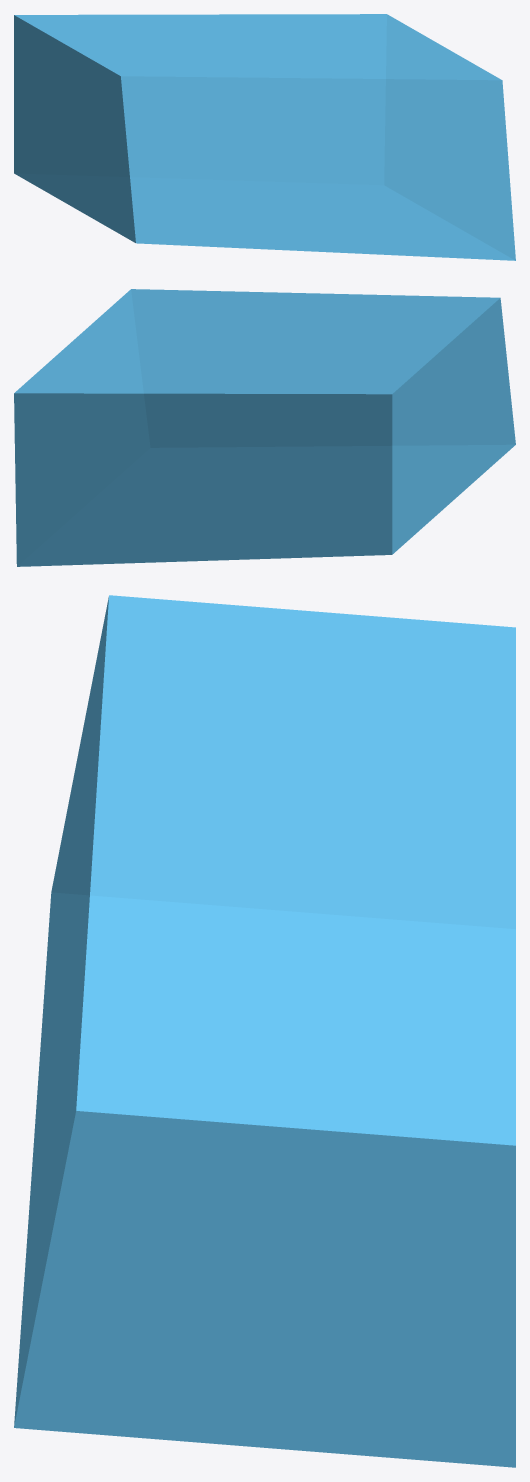
Rendered from Event_421278790_HErechit_38.fbx.
3 renders of one model, top to bottom at view 1: azimuth 30°, elevation 25°; view 2: azimuth 150°, elevation 25°; view 3: azimuth 270°, elevation 25°, orthographic. The views are drawn at different scales.
Parts seen in each view (by area): view 1: Model; view 2: Model; view 3: Model.
Part boxes in pixels (box(x1,y1,x2,y2)): Model: box(14, 14, 515, 260); Model: box(14, 289, 515, 566); Model: box(14, 595, 515, 1467).
Size of the model in its own units: 0.8954 by 0.6367 by 0.548.
